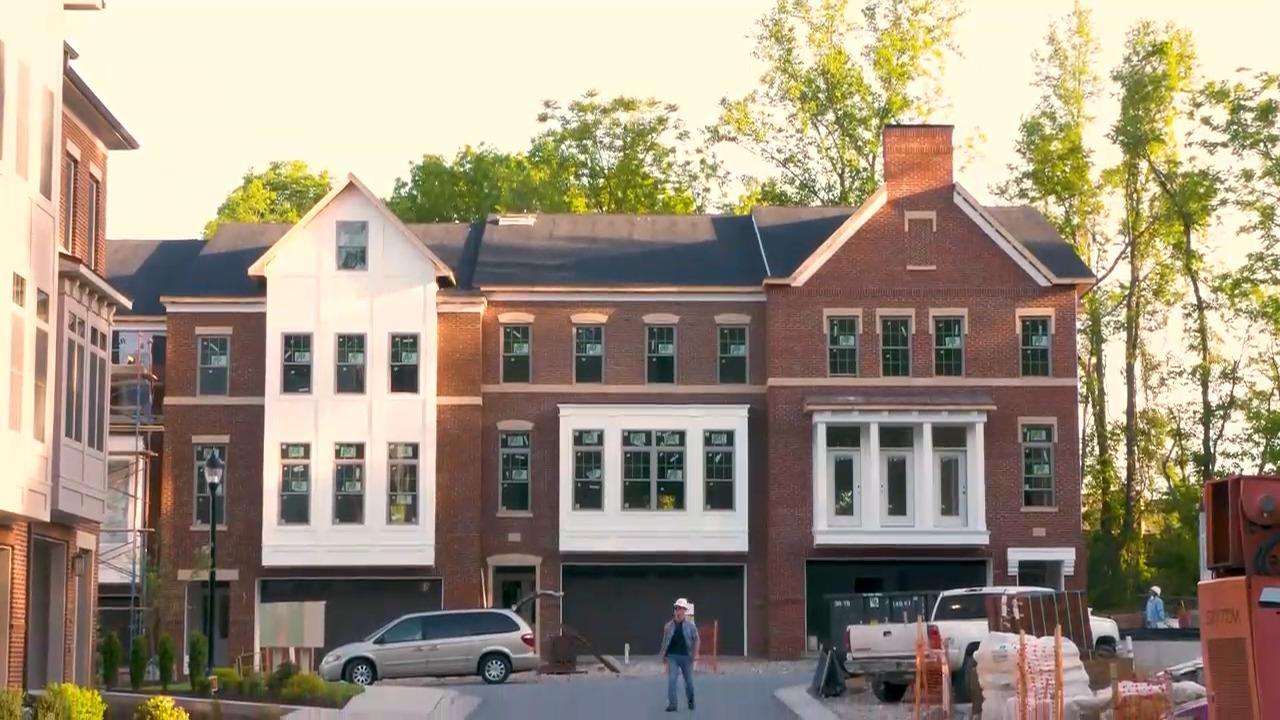Helmet: (672, 593, 692, 609)
Person: (657, 596, 711, 712), (1145, 585, 1169, 628)
Safety Boot: (686, 700, 695, 711), (665, 707, 678, 713)
Safety Vest: (668, 622, 698, 656)
